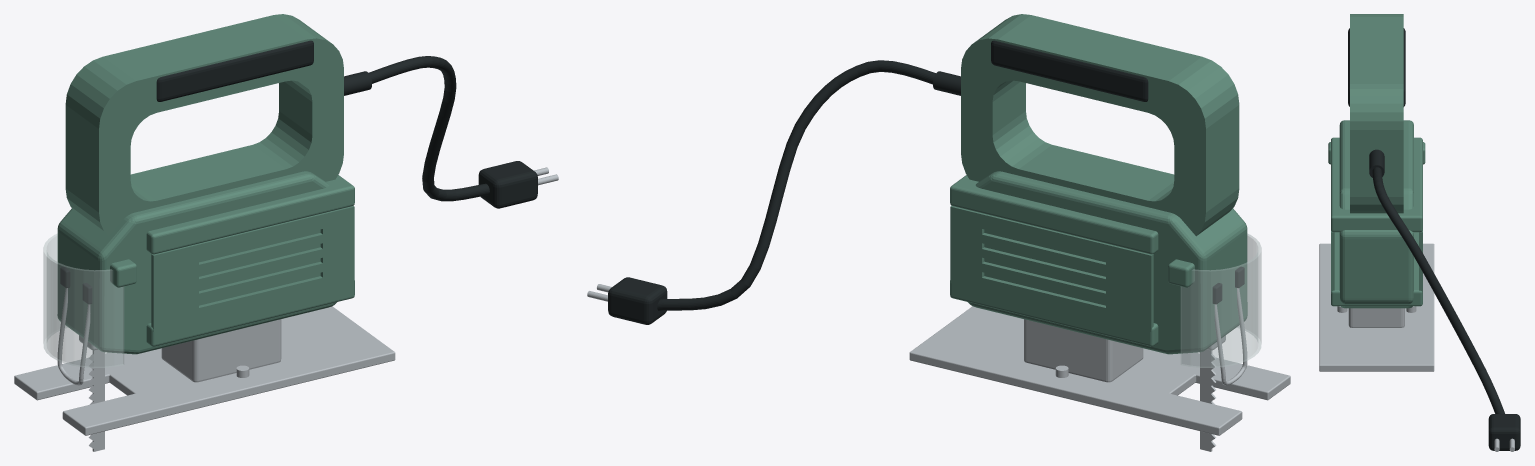
File: full.glb
3 renders of one model, left to right at view 1: azimuth 30°, elevation 25°; view 2: azimuth 150°, elevation 25°; view 3: azimuth 270°, elevation 25°, orthographic. The views are drawn at different scales.
Visible parts, largest first — view 1: D shaped open upper handle, Motor core and end housings, Open front U shoe, Open vent side skin -1, Curved translucent front cover, Side skin fixed bridge 0.125, Central metal shoe pedestal, Upper dark grip, Side skin fixed bridge 0.061, Complete authored power cable, Generic closed cable plug, Short static toothed blade (+3 smaller); view 2: D shaped open upper handle, Motor core and end housings, Open front U shoe, Open vent side skin 1, Curved translucent front cover, Side skin fixed bridge 0.125, Complete authored power cable, Central metal shoe pedestal, Upper dark grip, Side skin fixed bridge 0.061, Generic closed cable plug, Short static toothed blade (+1 smaller); view 3: D shaped open upper handle, Open front U shoe, Motor core and end housings, Side skin fixed bridge 0.125, Complete authored power cable, Central metal shoe pedestal, Side skin fixed bridge 0.061, Generic closed cable plug, Upper dark grip, Rear cord strain relief, Open vent side skin -1.
Boxes of the visible parts, x1,y1,x2,y2 form: D shaped open upper handle: (65, 14, 343, 236); Motor core and end housings: (57, 171, 336, 354); Open front U shoe: (14, 306, 395, 435); Open vent side skin -1: (151, 205, 354, 331); Curved translucent front cover: (43, 234, 123, 367); Side skin fixed bridge 0.125: (146, 175, 354, 254); Central metal shoe pedestal: (161, 319, 281, 382); Upper dark grip: (156, 40, 313, 101); Side skin fixed bridge 0.061: (146, 280, 354, 346); Complete authored power cable: (368, 56, 489, 201); Generic closed cable plug: (478, 161, 537, 208); Short static toothed blade: (88, 349, 104, 451); D shaped open upper handle: (961, 14, 1239, 236); Motor core and end housings: (968, 171, 1247, 354); Open front U shoe: (909, 306, 1290, 435); Open vent side skin 1: (950, 205, 1153, 331); Curved translucent front cover: (1181, 234, 1261, 367); Side skin fixed bridge 0.125: (950, 175, 1158, 254); Complete authored power cable: (657, 60, 935, 310); Central metal shoe pedestal: (1024, 319, 1143, 382); Upper dark grip: (991, 40, 1148, 101); Side skin fixed bridge 0.061: (950, 280, 1158, 346); Generic closed cable plug: (608, 277, 667, 324); Short static toothed blade: (1200, 349, 1216, 451); D shaped open upper handle: (1350, 14, 1403, 213); Open front U shoe: (1319, 243, 1434, 371); Motor core and end housings: (1339, 120, 1413, 308); Side skin fixed bridge 0.125: (1331, 137, 1422, 232); Complete authored power cable: (1372, 167, 1504, 413); Central metal shoe pedestal: (1348, 308, 1404, 327); Side skin fixed bridge 0.061: (1331, 232, 1422, 306); Generic closed cable plug: (1488, 414, 1520, 450); Upper dark grip: (1348, 28, 1405, 106); Rear cord strain relief: (1369, 149, 1384, 177); Open vent side skin -1: (1331, 231, 1334, 293).
Size of the model in its own units: 0.4227 by 0.261 by 0.1575.
